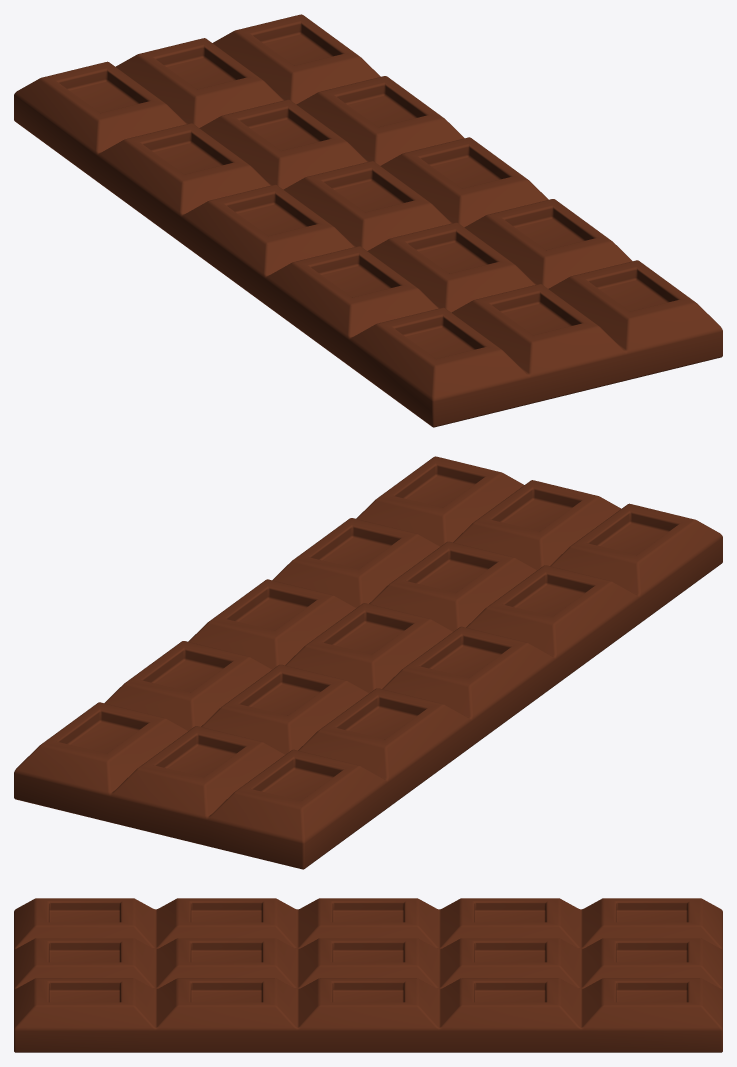
Rendered from Chocolate.fbx.
3 renders of one model, top to bottom at view 1: azimuth 30°, elevation 25°; view 2: azimuth 150°, elevation 25°; view 3: azimuth 270°, elevation 25°, orthographic. The views are drawn at different scales.
Parts seen in each view (by area): view 1: Chocolate; view 2: Chocolate; view 3: Chocolate.
Part boxes in pixels (x1,y1,x2,y2): Chocolate: [14, 14, 722, 427]; Chocolate: [14, 456, 722, 869]; Chocolate: [14, 898, 722, 1052].
Bounding box in the file's own units: 4.88 × 0.7934 × 12.21.
